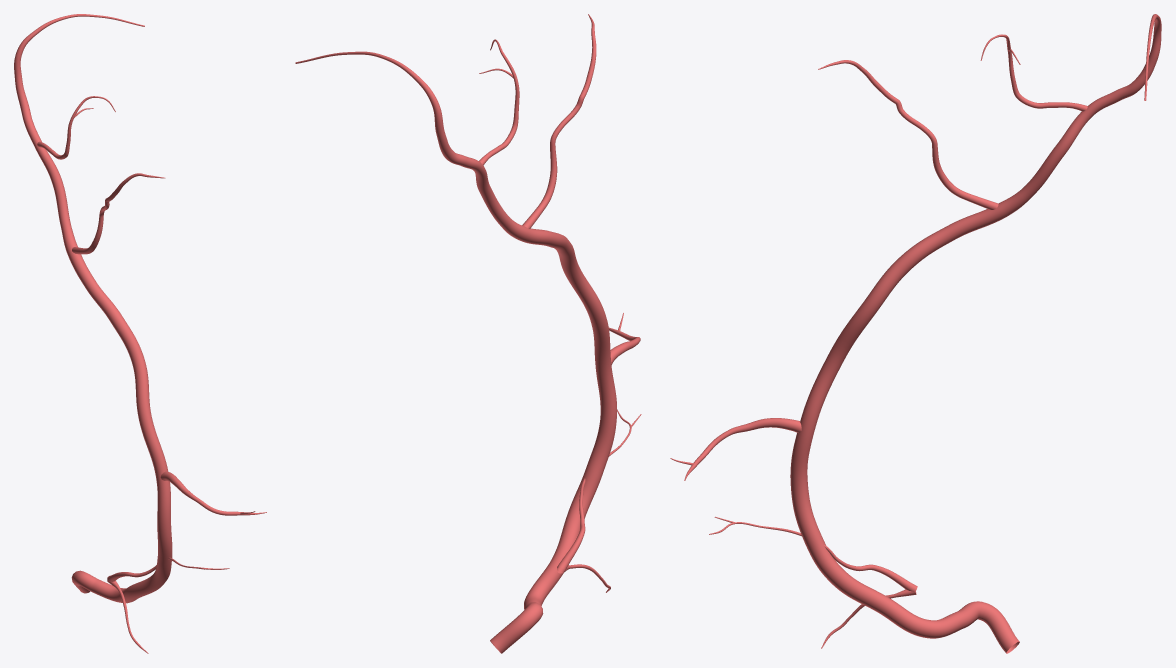
Rendered from Callosomarginal_artery.l_BezierCurve.211.glb.
The picture shows the model from 3 angles, left to right: view 1: azimuth 30°, elevation 25°; view 2: azimuth 150°, elevation 25°; view 3: azimuth 270°, elevation 25°; orthographic projection. The views are drawn at different scales.
Visible parts, largest first — view 1: Callosomarginal_artery.l_BezierCurve.211; view 2: Callosomarginal_artery.l_BezierCurve.211; view 3: Callosomarginal_artery.l_BezierCurve.211.
Part boxes in pixels (box(x1,y1,x2,y2)): Callosomarginal_artery.l_BezierCurve.211: box(14, 14, 266, 653); Callosomarginal_artery.l_BezierCurve.211: box(295, 14, 641, 653); Callosomarginal_artery.l_BezierCurve.211: box(670, 14, 1161, 653).
Bounding box in the file's own units: 0.0215 × 0.0784 × 0.053.
